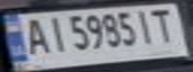5: (63, 11, 87, 52), (118, 9, 139, 47)
8: (100, 10, 121, 48)
9: (84, 11, 106, 51)
A: (18, 15, 51, 56)
I: (42, 14, 69, 53), (133, 7, 160, 45)
T: (145, 6, 181, 44)
